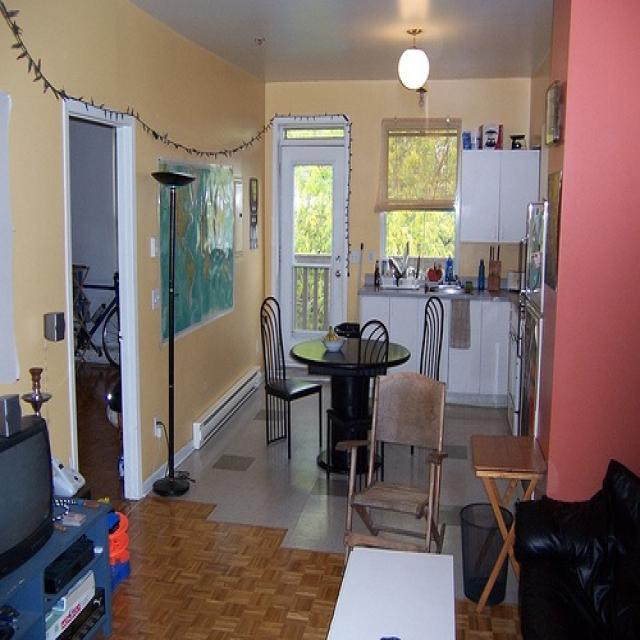bicycle: (74, 266, 120, 372)
chair: (336, 371, 449, 561), (328, 322, 392, 498), (259, 296, 325, 465), (421, 296, 445, 380)
sofa: (513, 460, 640, 639)
tvmonitor: (1, 416, 55, 580)
